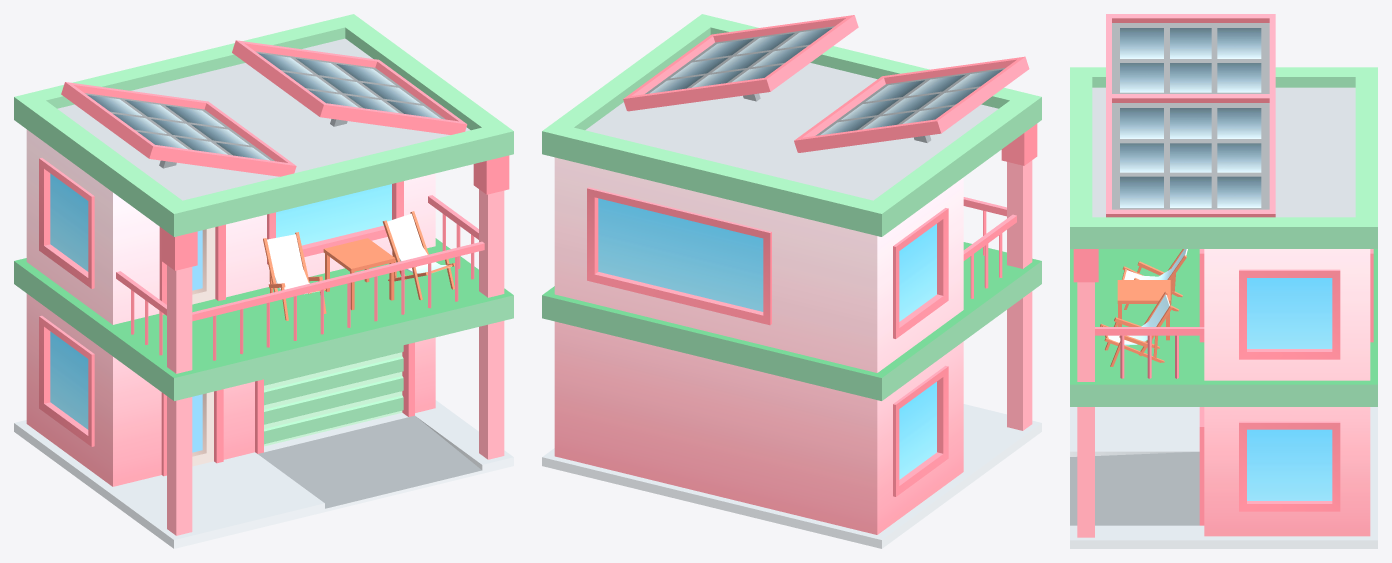
The model's file is city2-building-living-19.glb.
The picture shows the model from 3 angles, left to right: view 1: azimuth 30°, elevation 25°; view 2: azimuth 150°, elevation 25°; view 3: azimuth 270°, elevation 25°; orthographic projection. The views are drawn at different scales.
Visible parts, largest first — view 1: Building_Living_19; view 2: Building_Living_19; view 3: Building_Living_19.
Part boxes in pixels (left/top/right/bottom): Building_Living_19: left=14, top=14, right=513, bottom=548; Building_Living_19: left=542, top=14, right=1041, bottom=548; Building_Living_19: left=1070, top=14, right=1377, bottom=548.
Size of the model in its own units: 8.18 by 8.79 by 6.55.
1 material, 1 textured.
